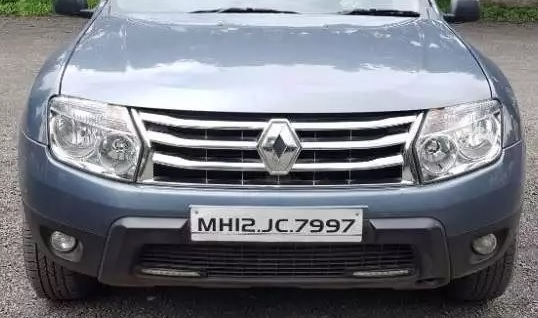licenseplate: (187, 202, 367, 245)
